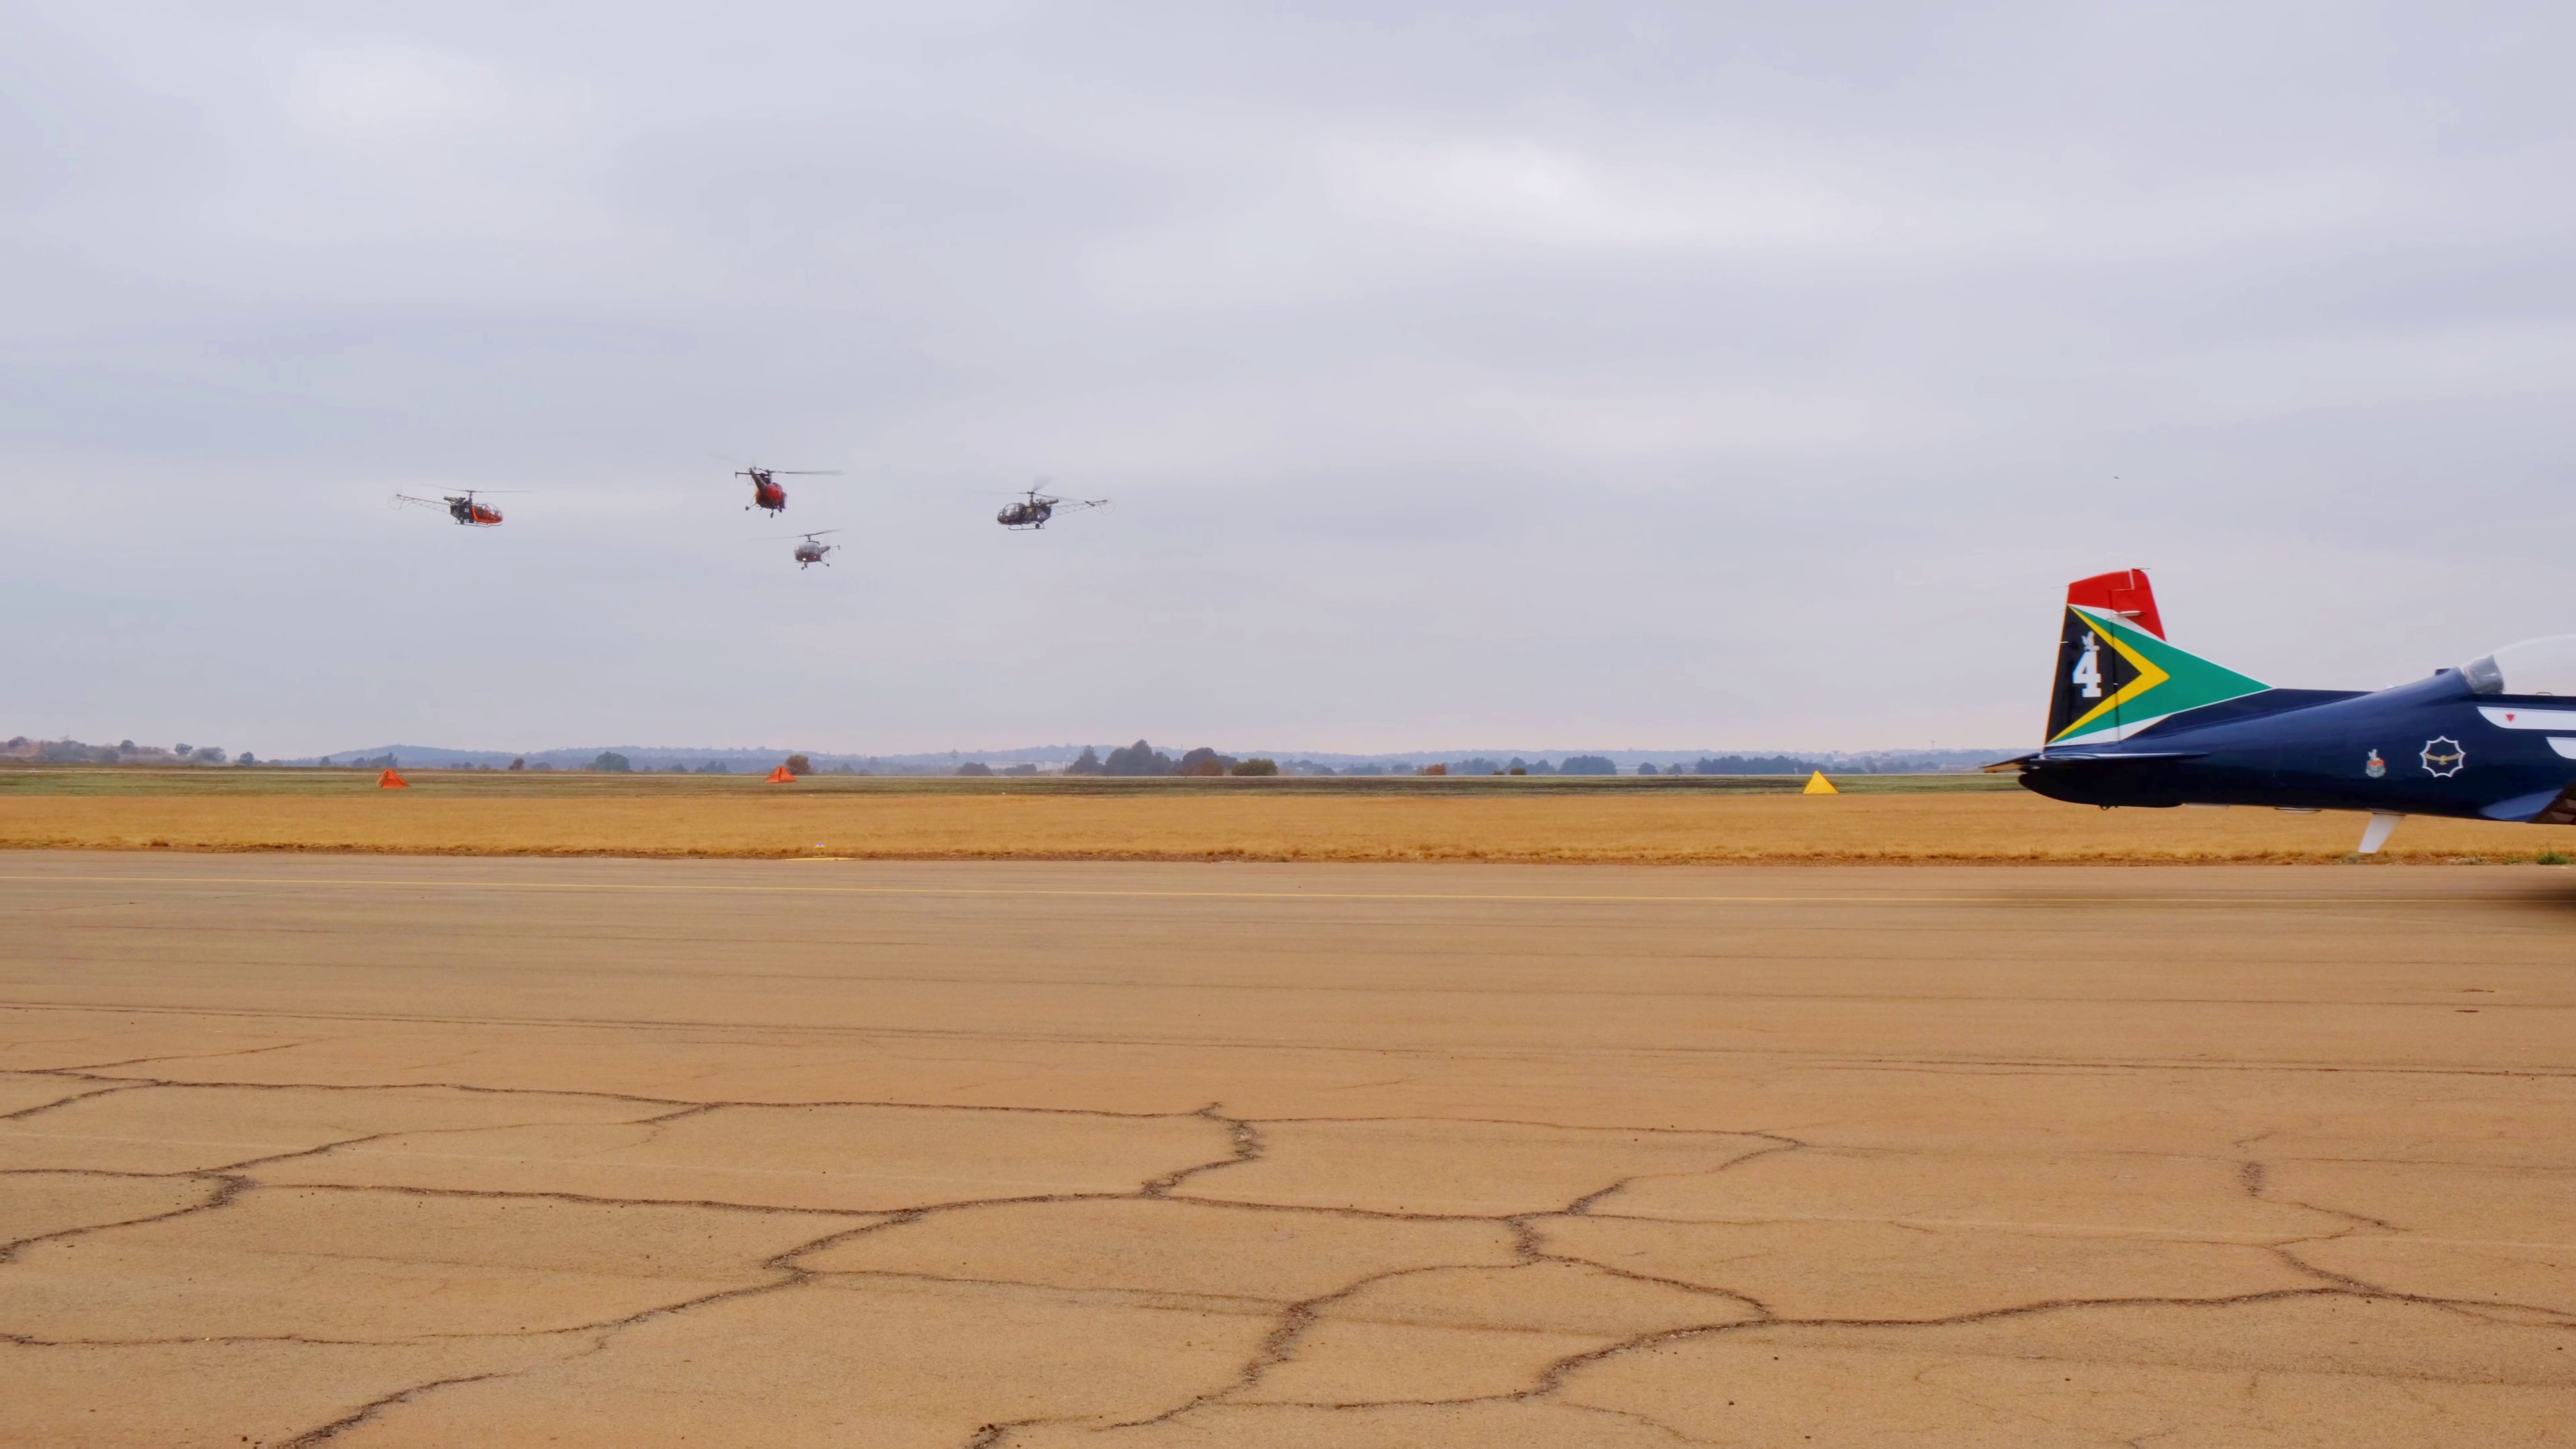heli: (391, 483, 529, 527), (734, 464, 840, 517), (996, 483, 1109, 531), (754, 529, 844, 568)
plane: (2008, 568, 2576, 837)
